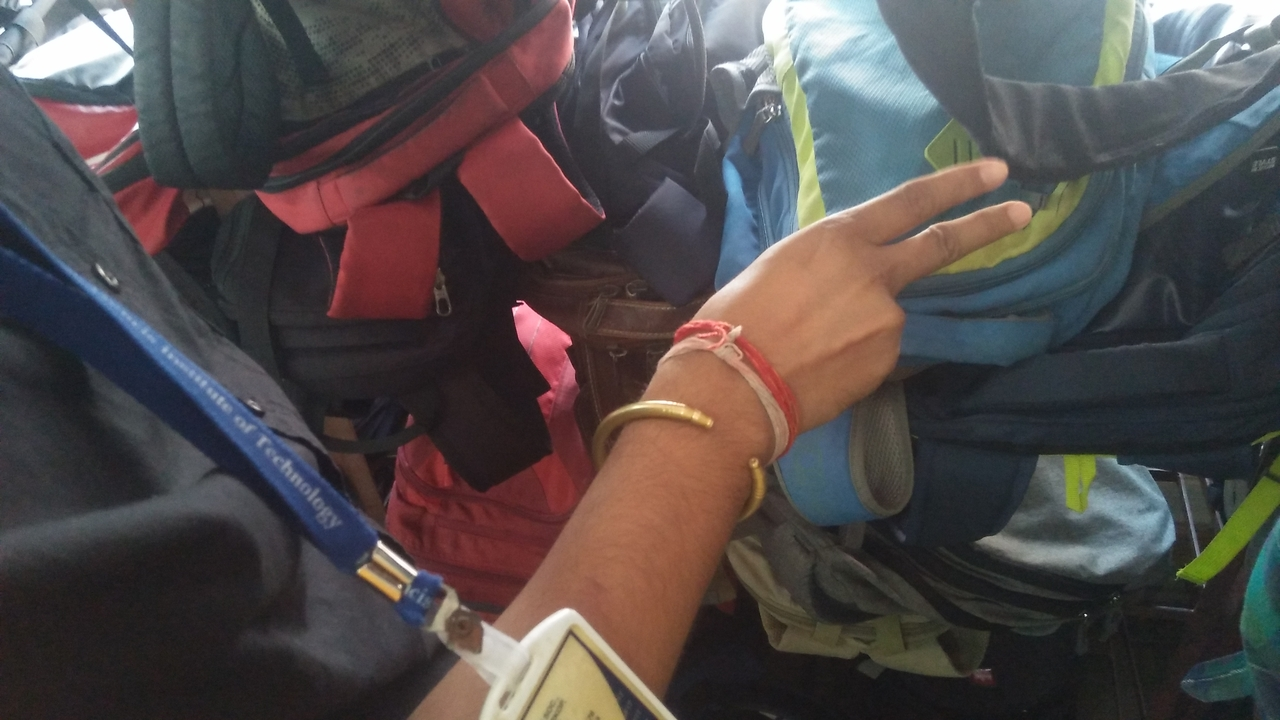fingertip: (976, 198, 1052, 240), (970, 150, 1016, 194)
